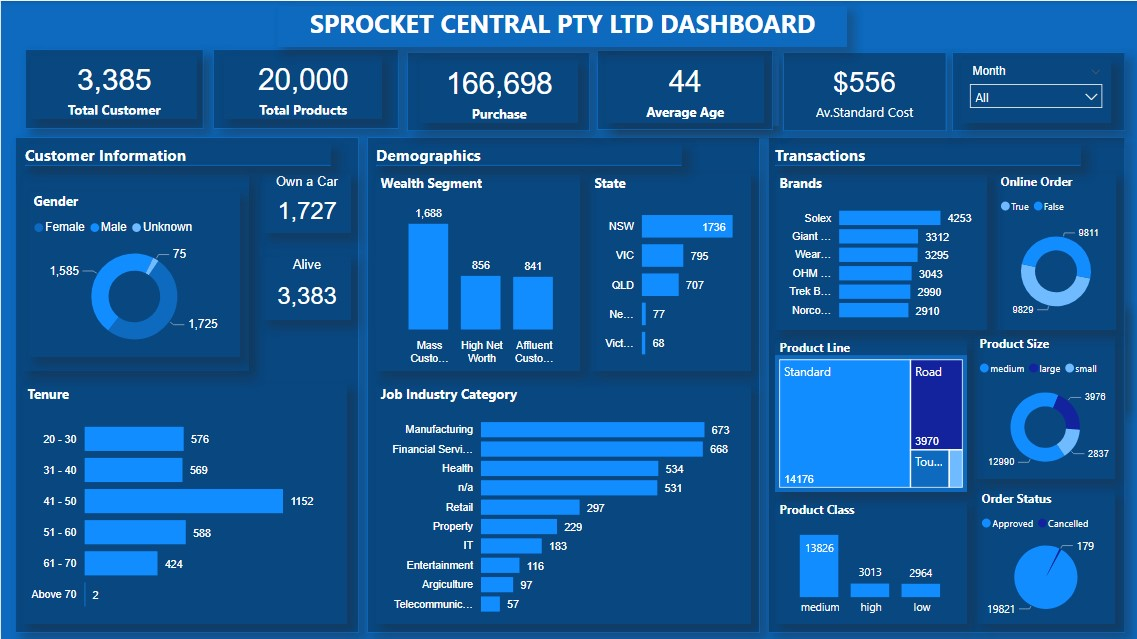

The dashboard page shown, as its layout file describes it:
{"tool":"powerbi","page":{"name":"Page 1","canvas":[1280,720],"ordinal":0},"visuals":[{"type":"shape","box":[27.2,54.5,201.1,89.5],"z":0},{"type":"shape","box":[238.7,54.5,208.9,89.5],"z":1000},{"type":"shape","box":[1035.2,342.5,227,115.5],"z":2000},{"type":"shape","box":[15.6,153.1,386.6,557.8],"z":3000},{"type":"shape","box":[862.7,153.1,402.2,557.8],"z":4000},{"type":"shape","box":[411.2,153.1,442.4,557.8],"z":5000},{"type":"shape","box":[25.1,194.3,253.7,221.7],"z":6000},{"type":"card","fields":{"Values":["All Measures.Total Customer"]},"box":[33.7,62.3,186.8,71.4],"z":7000},{"type":"donutChart","title":"Gender","fields":{"Y":["All Measures.Total Customer"],"Series":["Customer_details.gender"]},"box":[32,214.9,236.6,186.3],"z":8000},{"type":"barChart","title":"Tenure","fields":{"Category":["Customer_details.Age (groups)"],"Y":["CountNonNull(Customer_details.tenure)"]},"box":[25.1,432,364.6,268.6],"z":9000},{"type":"card","title":"Own a Car","fields":{"Values":["All Measures.Car"]},"box":[294.5,194.6,98.6,66.2],"z":10000},{"type":"shape","box":[457.1,57.1,205.7,89.1],"z":11000},{"type":"barChart","title":"Job Industry Category","fields":{"Y":["All Measures.Total Customer"],"Category":["Customer_details.job_industry_category"]},"box":[421.7,432,421.7,268.6],"z":12000},{"type":"columnChart","title":"Wealth Segment","fields":{"Y":["All Measures.Total Customer"],"Category":["Customer_details.wealth_segment"]},"box":[421.7,194.3,229.7,221.7],"z":13000},{"type":"card","fields":{"Values":["All Measures.Average Age"]},"box":[685.7,61.7,188.6,78.9],"z":14000},{"type":"barChart","title":"State","fields":{"Y":["CountNonNull(Customer_details.state)"],"Category":["Customer_details.state"]},"box":[662.9,194.3,180.6,221.7],"z":15000},{"type":"card","title":"Alive","fields":{"Values":["All Measures.Deceased Status"]},"box":[294.5,288,98.6,71.4],"z":16000},{"type":"shape","box":[670.7,54.9,198.5,89.5],"z":17000},{"type":"card","fields":{"Values":["All Measures.Total Products"]},"box":[251.4,61.7,178.3,70.9],"z":18000},{"type":"treemap","title":"Product Line","fields":{"Group":["Transactions.product_line"],"Values":["CountNonNull(Transactions.product_line)"]},"box":[870.9,381.7,216,171.4],"z":19000},{"type":"barChart","title":"Brands","fields":{"Category":["Transactions.brand"],"Y":["CountNonNull(Transactions.brand)"]},"box":[870.9,194.3,237.7,174.9],"z":20000},{"type":"columnChart","title":"Product Class","fields":{"Category":["Transactions.product_class"],"Y":["CountNonNull(Transactions.product_class)"]},"box":[870.9,563.4,216,137.1],"z":21000},{"type":"pieChart","title":"Order Status","fields":{"Category":["Transactions.order_status"],"Y":["CountNonNull(Transactions.order_status)"]},"box":[1098.3,550.9,155.4,149.7],"z":22000},{"type":"donutChart","title":"Online Order","fields":{"Category":["Transactions.online_order"],"Y":["CountNonNull(Transactions.online_order)"]},"box":[1118.9,194.3,134.9,174.9],"z":23000},{"type":"donutChart","title":"Product Size","fields":{"Category":["Transactions.product_size"],"Y":["CountNonNull(Transactions.product_size)"]},"box":[1096,377.1,157.7,161.1],"z":24000},{"type":"card","fields":{"Values":["All Measures.Purchase"]},"box":[470.9,66.3,178.3,70.9],"z":25000},{"type":"card","fields":{"Values":["All Measures.Average Age"]},"box":[681.1,60.9,178.3,76.6],"z":26000},{"type":"shape","box":[880,57.1,184,89.1],"z":27000},{"type":"shape","box":[1069.7,57.1,195.4,89.1],"z":28000},{"type":"card","fields":{"Values":["All Measures.Standard Cost"]},"box":[891.4,60.6,161.1,80],"z":29000},{"type":"slicer","fields":{"Values":["Transactions.transaction_date.Variation.Date Hierarchy.Month"]},"box":[1080,66.3,169.1,70.9],"z":30000},{"type":"shape","title":"SPROCKET CENTRAL PTY LTD DASHBOARD","box":[312,5.7,640,45.7],"z":31000},{"type":"shape","title":"Customer Information","box":[27.4,161.1,344,25.1],"z":32000},{"type":"shape","title":"Demographics","box":[421.7,161.1,344,25.1],"z":33000},{"type":"shape","title":"Transactions","box":[870.9,161.1,344,25.1],"z":34000}]}

Visuals, with their boxes in screenshot pixels (x1, y1, x2, y2), scaled from the page's 1280x720 canvas onto the 1137x639 screenshot:
shape: (24, 48, 203, 128)
shape: (212, 48, 398, 128)
shape: (920, 304, 1121, 406)
shape: (14, 136, 357, 631)
shape: (766, 136, 1124, 631)
shape: (365, 136, 758, 631)
shape: (22, 172, 248, 369)
card - All Measures.Total Customer: (30, 55, 196, 119)
"Gender" donutChart: (28, 191, 239, 356)
"Tenure" barChart: (22, 383, 346, 622)
"Own a Car" card: (262, 173, 349, 231)
shape: (406, 51, 589, 130)
"Job Industry Category" barChart: (375, 383, 749, 622)
"Wealth Segment" columnChart: (375, 172, 579, 369)
card - All Measures.Average Age: (609, 55, 777, 125)
"State" barChart: (589, 172, 749, 369)
"Alive" card: (262, 256, 349, 319)
shape: (596, 49, 772, 128)
card - All Measures.Total Products: (223, 55, 382, 118)
"Product Line" treemap: (774, 339, 965, 491)
"Brands" barChart: (774, 172, 985, 328)
"Product Class" columnChart: (774, 500, 965, 622)
"Order Status" pieChart: (976, 489, 1114, 622)
"Online Order" donutChart: (994, 172, 1114, 328)
"Product Size" donutChart: (974, 335, 1114, 478)
card - All Measures.Purchase: (418, 59, 577, 122)
card - All Measures.Average Age: (605, 54, 763, 122)
shape: (782, 51, 945, 130)
shape: (950, 51, 1124, 130)
card - All Measures.Standard Cost: (792, 54, 935, 125)
slicer - Transactions.transaction_date.Variation.Date Hierarchy.Month: (959, 59, 1110, 122)
"SPROCKET CENTRAL PTY LTD DASHBOARD" shape: (277, 5, 846, 46)
"Customer Information" shape: (24, 143, 330, 165)
"Demographics" shape: (375, 143, 680, 165)
"Transactions" shape: (774, 143, 1079, 165)
